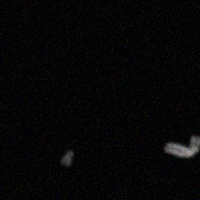chromosome: (164, 136, 200, 158), (61, 150, 73, 165)
